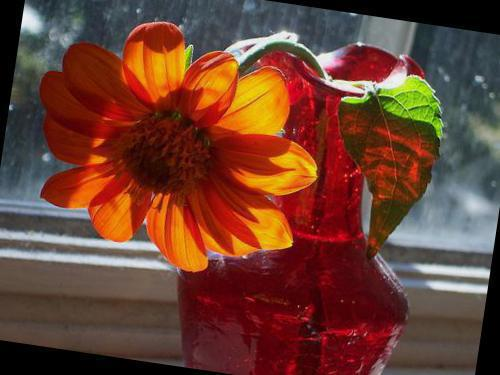Matera: (10, 0, 459, 375)
